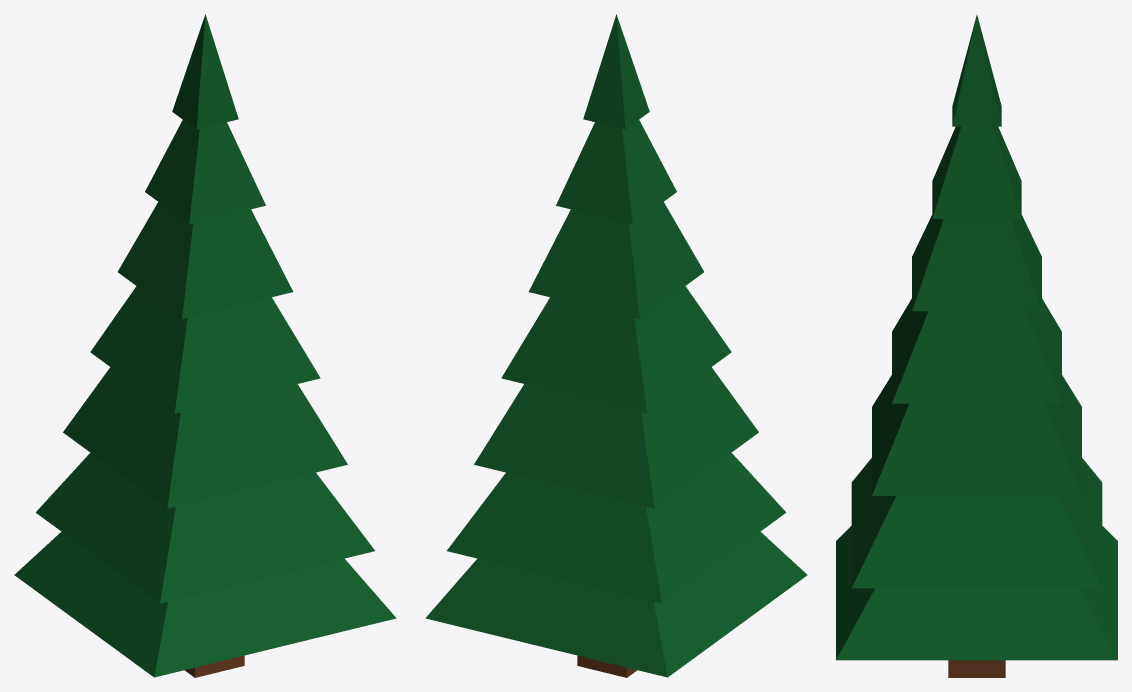
File: Tree04.fbx
3 views of the same model, side by side, from view 1: azimuth 30°, elevation 25°; view 2: azimuth 150°, elevation 25°; view 3: azimuth 270°, elevation 25° (orthographic).
Parts seen in each view (by area): view 1: Tree04; view 2: Tree04; view 3: Tree04.
Boxes of the visible parts, x1,y1,x2,y2 form: Tree04: (14,14,396,677); Tree04: (425,14,807,677); Tree04: (836,15,1117,677).
Bounding box in the file's own units: 196 × 500 × 196.
